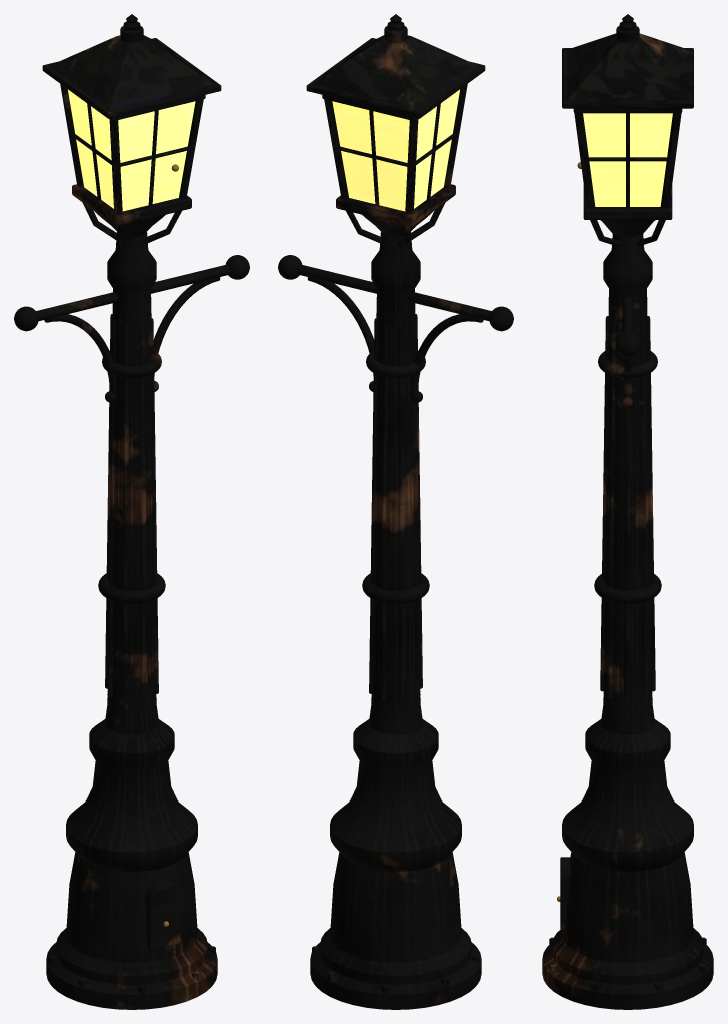
File: gen_street_lamp.mobile-high.glb
3 views of the same model, side by side, from view 1: azimuth 30°, elevation 25°; view 2: azimuth 150°, elevation 25°; view 3: azimuth 270°, elevation 25° (orthographic).
Parts seen in each view (by area): view 1: gen_street_lamp; view 2: gen_street_lamp; view 3: gen_street_lamp.
Part boxes in pixels (box(x1,y1,x2,y2)): gen_street_lamp: box(14, 14, 249, 1009); gen_street_lamp: box(278, 14, 513, 1009); gen_street_lamp: box(542, 14, 713, 1009).
Bounding box in the file's own units: 0.8146 × 3.21 × 0.52.
1 material, 1 textured.
